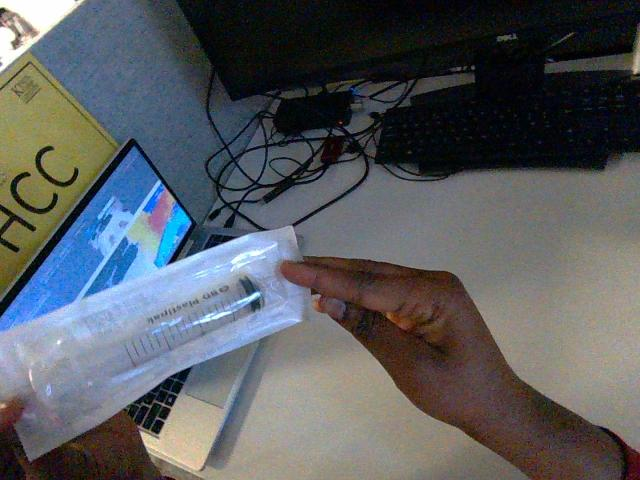syringe: (0, 227, 308, 459)
